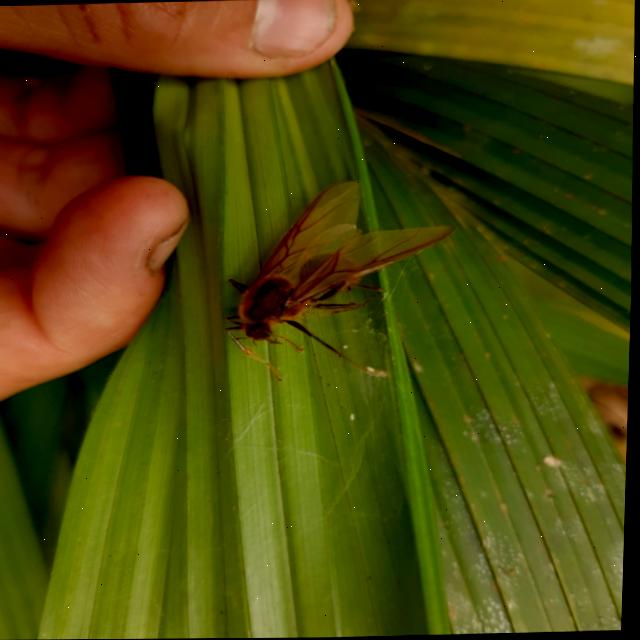Dead-Male-Alate: (222, 179, 461, 383)
